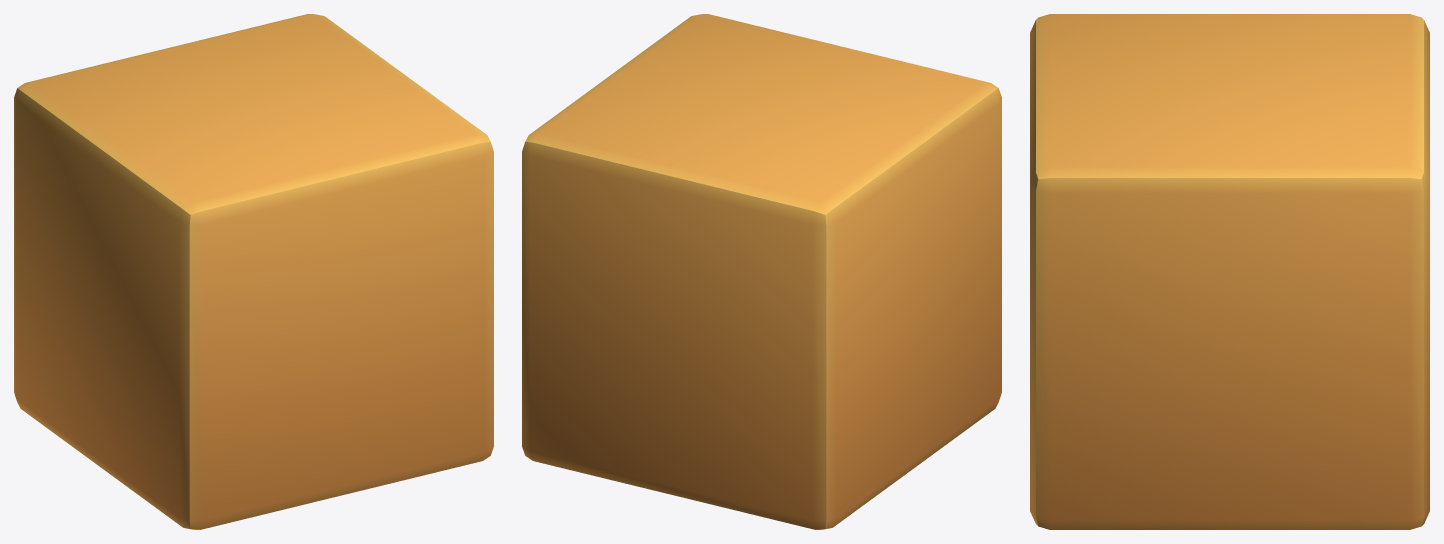
The model's file is colored_block_yellow.glb.
The picture shows the model from 3 angles, left to right: view 1: azimuth 30°, elevation 25°; view 2: azimuth 150°, elevation 25°; view 3: azimuth 270°, elevation 25°; orthographic projection. The views are drawn at different scales.
Visible parts, largest first — view 1: colored_block_yellow; view 2: colored_block_yellow; view 3: colored_block_yellow.
Part boxes in pixels (left/top/right/bottom): colored_block_yellow: left=14, top=14, right=493, bottom=529; colored_block_yellow: left=522, top=14, right=1001, bottom=529; colored_block_yellow: left=1030, top=14, right=1429, bottom=529.
Size of the model in its own units: 2 by 2 by 2.
1 material, 1 textured.
